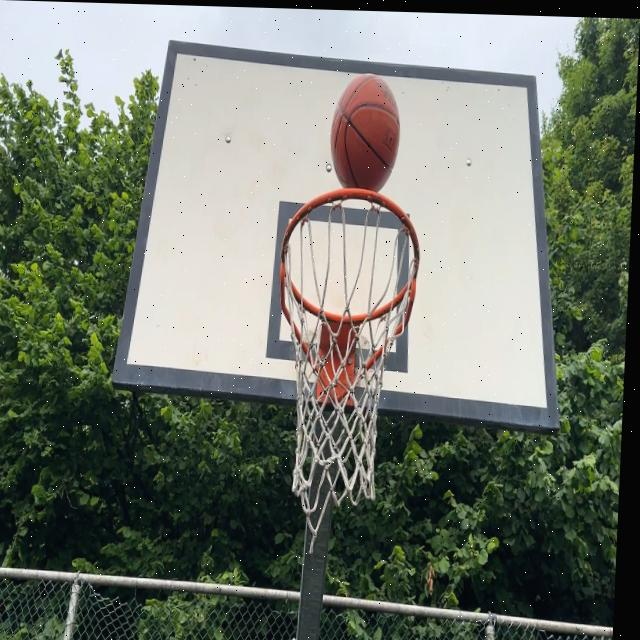rebound_hit: (328, 72, 404, 210)
